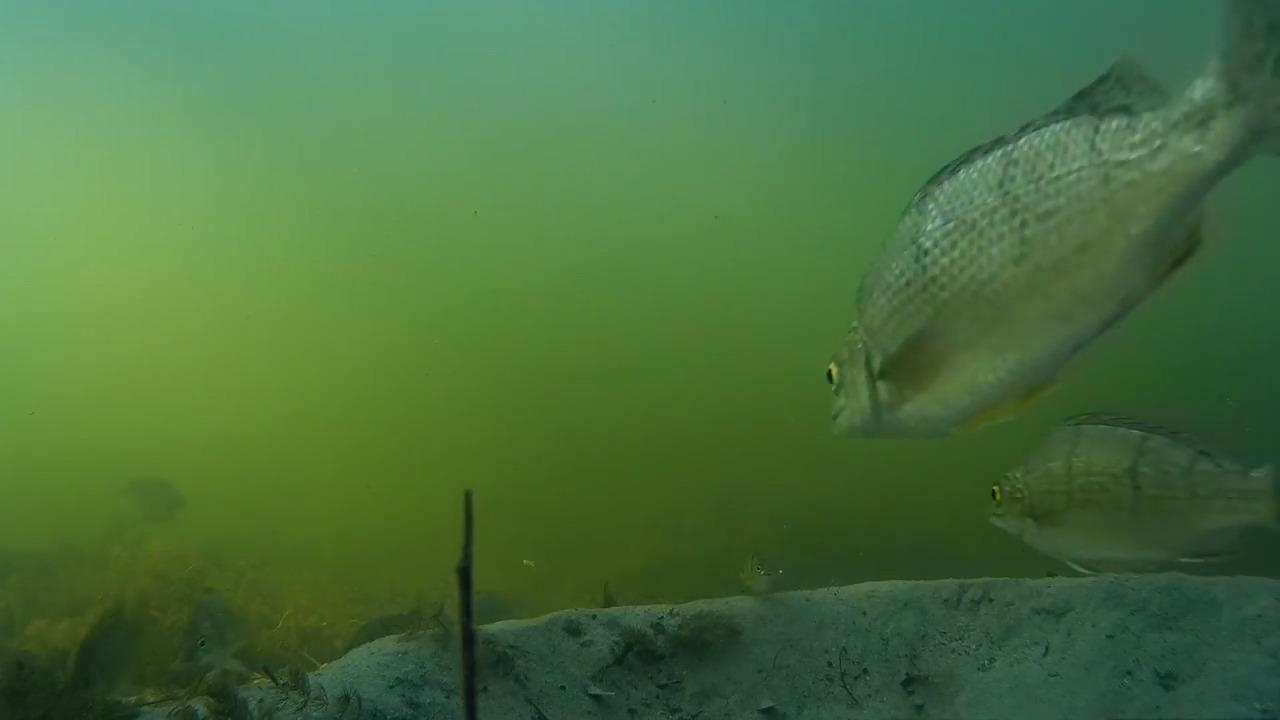Tilapia: (818, 19, 1268, 468), (983, 414, 1277, 576)
